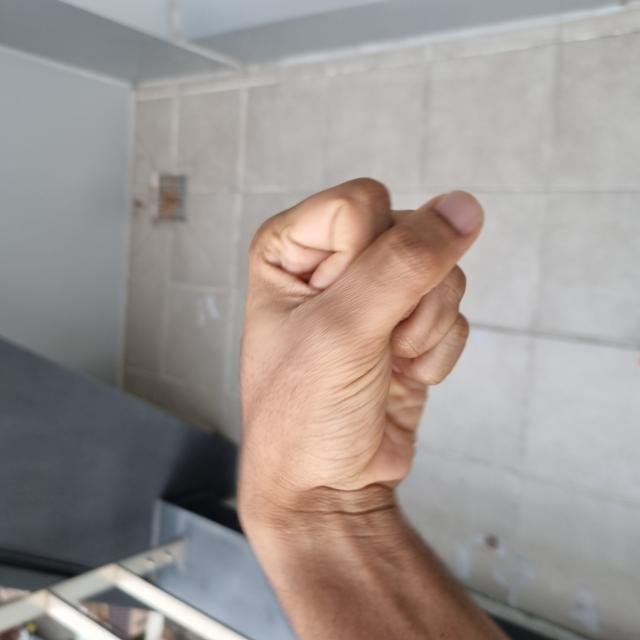Rock: (125, 239, 460, 477)
